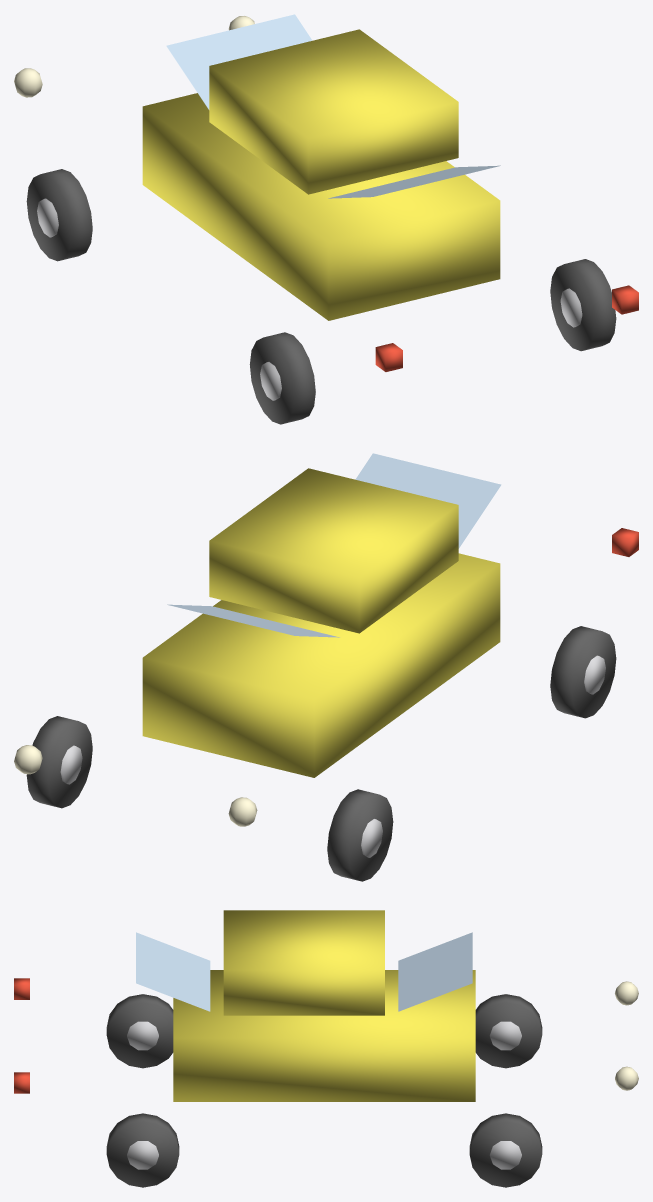
File: mesh_taxi_car.fbx
The picture shows the model from 3 angles, top to bottom: view 1: azimuth 30°, elevation 25°; view 2: azimuth 150°, elevation 25°; view 3: azimuth 270°, elevation 25°; orthographic projection. The views are drawn at different scales.
Parts seen in each view (by area): view 1: mesh_taxi_car; view 2: mesh_taxi_car; view 3: mesh_taxi_car.
Part boxes in pixels (x1,y1,x2,y2): mesh_taxi_car: (14,14,638,424); mesh_taxi_car: (14,453,638,881); mesh_taxi_car: (14,910,638,1187).
Bounding box in the file's own units: 1.52 × 1.01 × 3.1.
